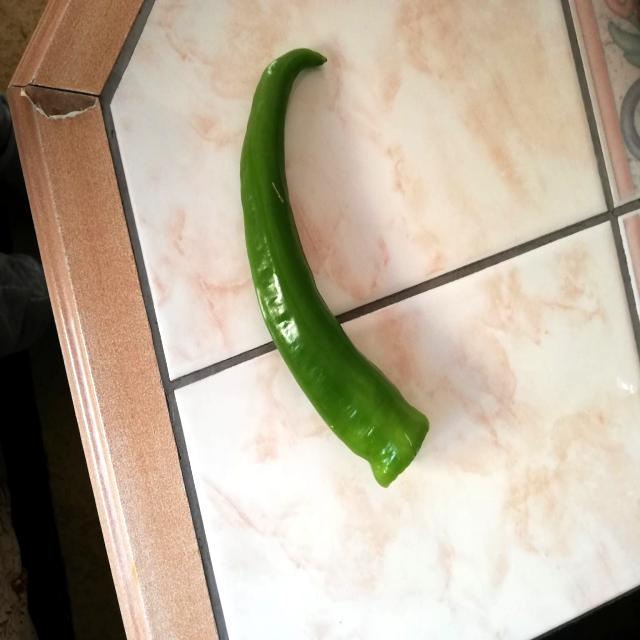green pepper: (237, 47, 433, 494)
